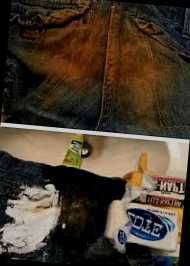earth: (52, 19, 119, 83), (114, 29, 159, 111)
